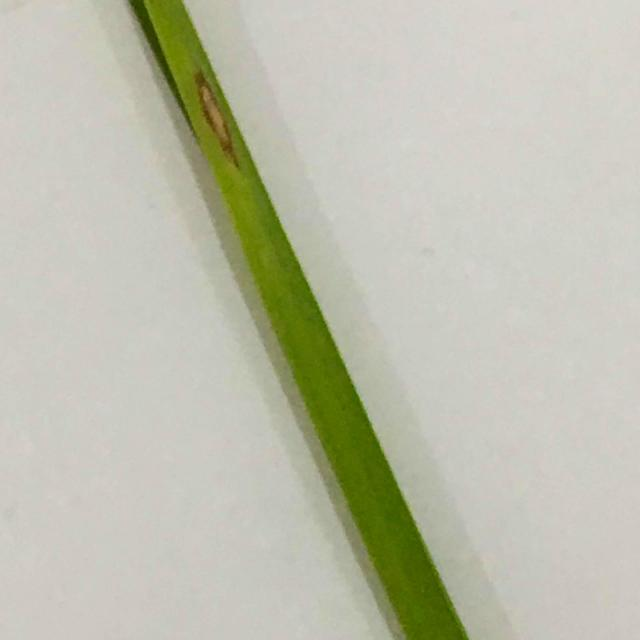Leaf blast: (96, 0, 506, 640)
